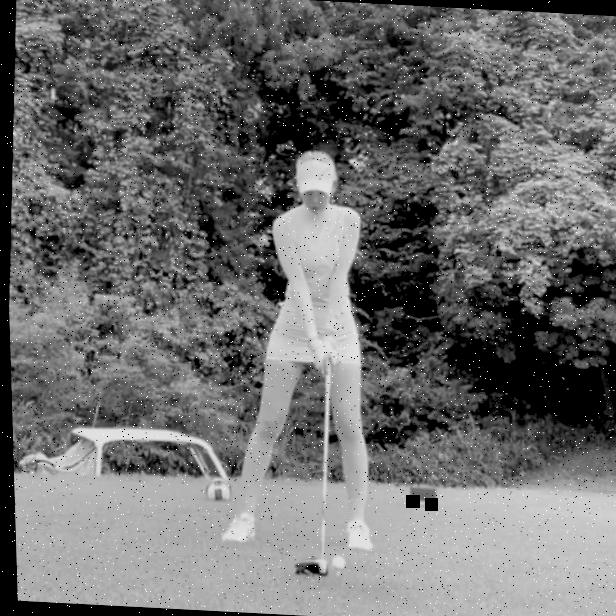ClubHead: (291, 558, 325, 578)
GolfBall: (327, 556, 343, 570)
